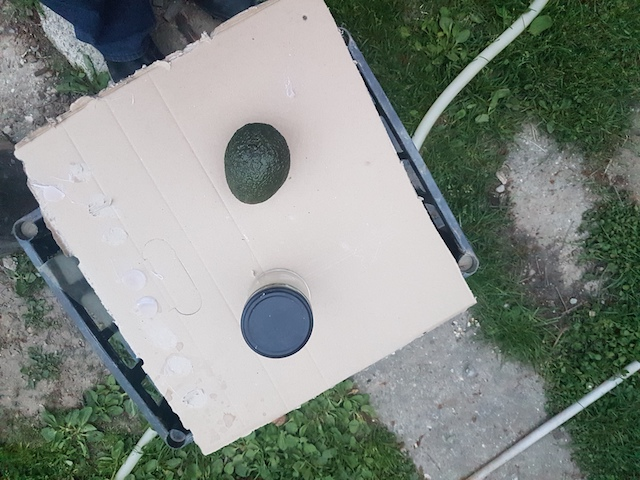avocado: (224, 120, 292, 205)
recipient: (241, 289, 315, 361)
